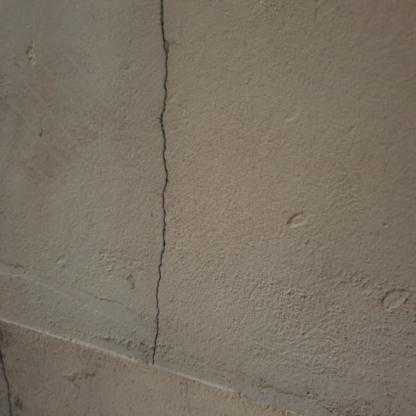crack: (152, 0, 169, 365)
